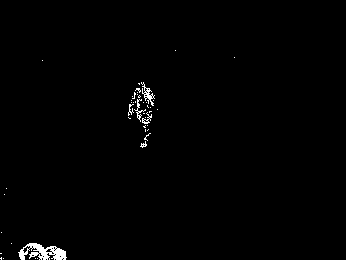person: (128, 82, 156, 150)
